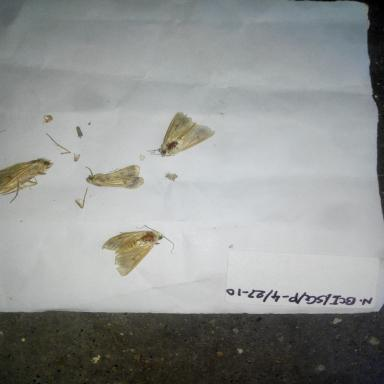abw: (94, 222, 179, 279), (142, 108, 222, 163), (0, 153, 60, 211), (81, 163, 147, 197)
